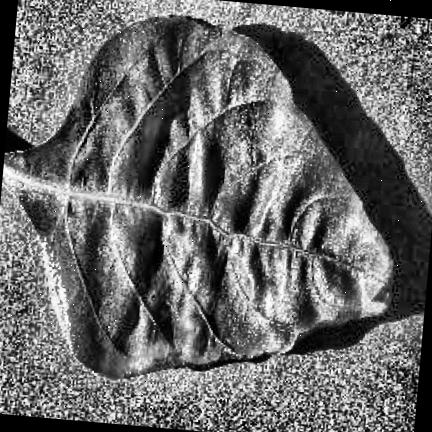leaf: (2, 16, 392, 378)
